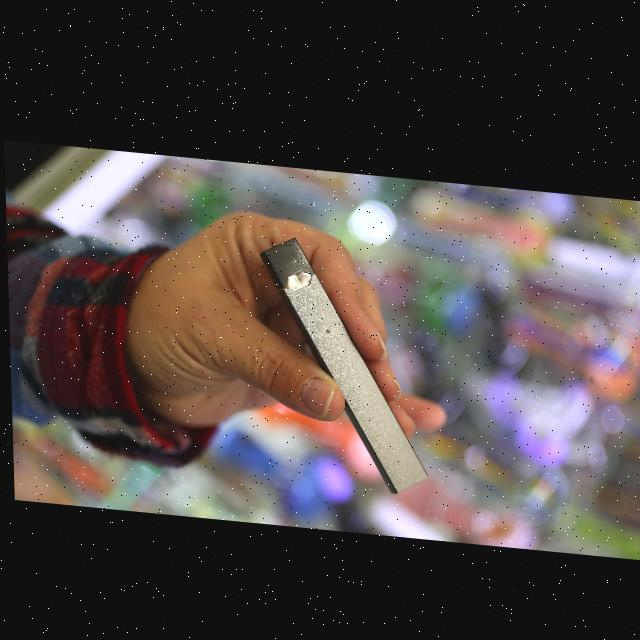vape: (257, 229, 427, 490)
